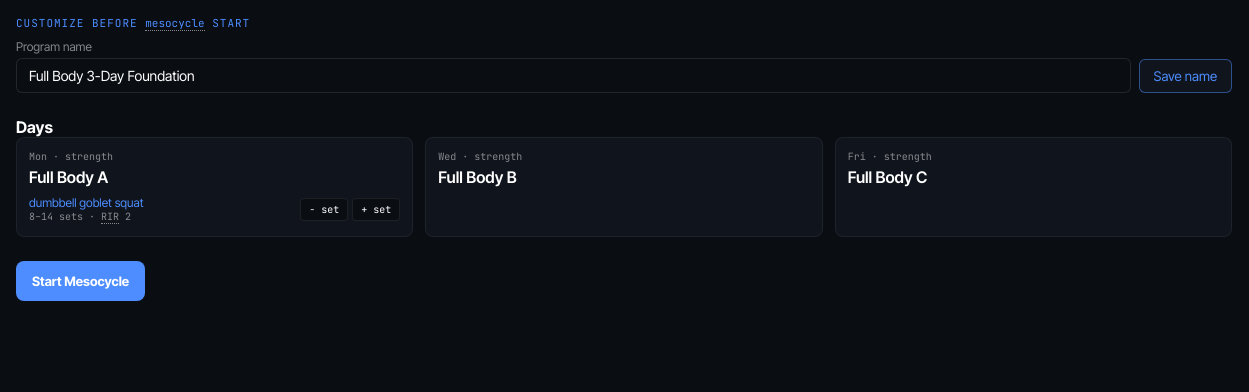
<ForkWizard> › handles 409 template_outdated by showing a refork message
The width and height of the screenshot is (1249, 392).
Check: the text "Full Body A" is shown, box [29, 167, 108, 187]
Click the button "Start Mesocycle": [81, 281] box [16, 261, 145, 301]
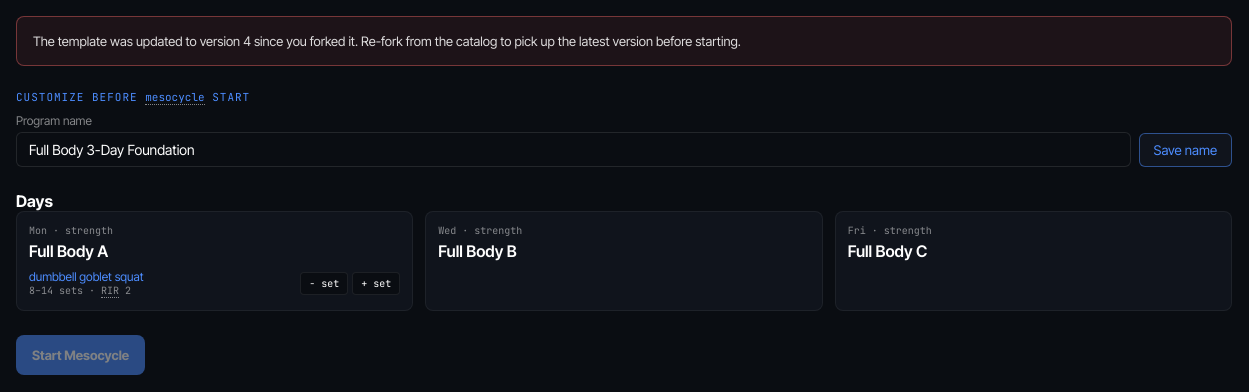
Check: the message shows "version 4", box [16, 16, 1232, 66]
